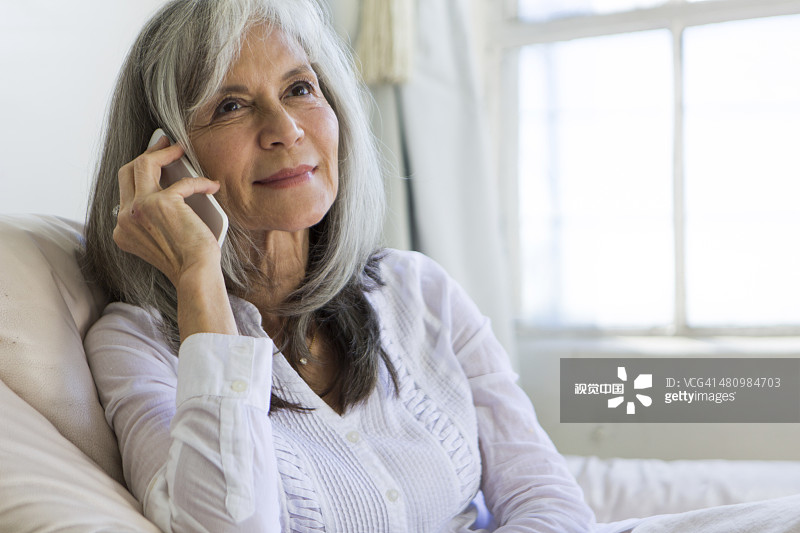calling: (94, 110, 247, 303)
